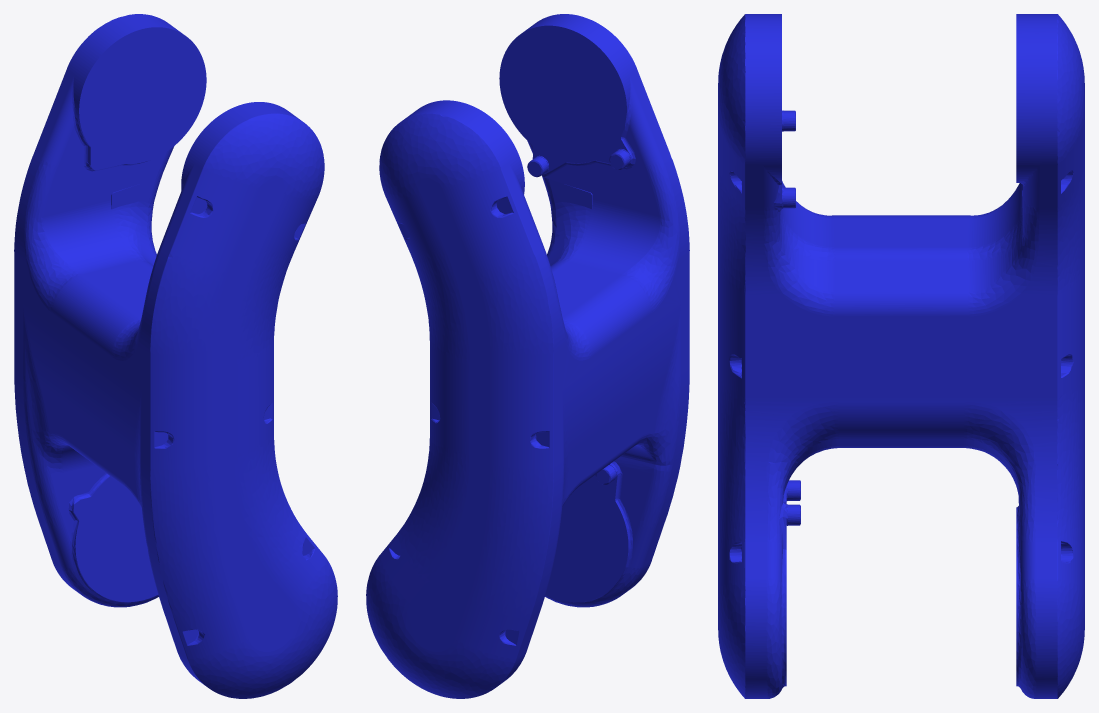
3 views of the same model, side by side, from view 1: azimuth 30°, elevation 25°; view 2: azimuth 150°, elevation 25°; view 3: azimuth 270°, elevation 25° (orthographic). The views are drawn at different scales.
Parts seen in each view (by area): view 1: Link2; view 2: Link2; view 3: Link2.
Boxes of the visible parts, x1,y1,x2,y2 form: Link2: (14, 14, 337, 698); Link2: (366, 14, 689, 698); Link2: (718, 14, 1084, 698).
Size of the model in its own units: 0.156 by 0.23 by 0.462.
